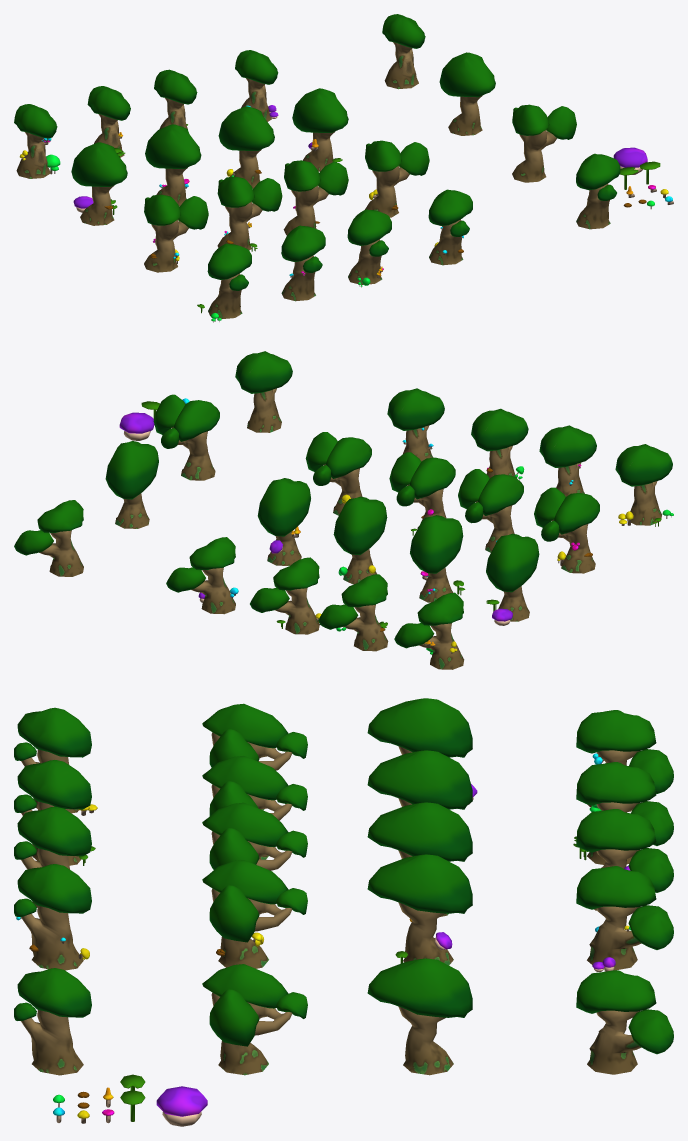
File: DecorationTreeMushroom.glb
The picture shows the model from 3 angles, top to bottom: view 1: azimuth 30°, elevation 25°; view 2: azimuth 150°, elevation 25°; view 3: azimuth 270°, elevation 25°; orthographic projection. The views are drawn at different scales.
Parts seen in each view (by area): view 1: LeafSet.031, LeafSet.029, LeafSet.030, LeafSet.032, LeafIndividual.001, TreeIndividual.003, TreeSet.011, LeafIndividual.008, LeafSet.016, LeafSet.009, LeafSet.002, LeafSet.023 (+34 smaller); view 2: LeafSet.031, LeafIndividual.001, LeafSet.029, LeafSet.032, LeafSet.030, LeafIndividual.008, LeafSet.002, LeafSet.009, LeafSet.016, LeafSet.023, LeafSet.013, LeafIndividual.007 (+39 smaller); view 3: LeafIndividual.001, LeafSet.029, LeafSet.030, LeafSet.031, LeafSet.032, LeafSet.015, LeafIndividual.004, LeafSet.008, LeafSet.001, LeafSet.022, LeafSet.002, LeafIndividual.008 (+28 smaller).
Boxes of the visible parts, x1,y1,x2,y2 form: LeafSet.031: (145,124,201,168); LeafSet.029: (292,88,348,132); LeafSet.030: (218,106,274,150); LeafSet.032: (71,142,127,186); LeafIndividual.001: (439,52,495,97); TreeIndividual.003: (512,130,556,182); TreeSet.011: (144,219,188,272); LeafIndividual.008: (576,153,620,190); LeafSet.016: (281,225,325,261); LeafSet.009: (347,209,391,245); LeafSet.002: (428,189,472,225); LeafSet.023: (207,243,251,279); LeafSet.031: (410,515,463,573); LeafIndividual.001: (105,441,158,499); LeafSet.029: (257,478,310,536); LeafSet.032: (486,533,539,592); LeafSet.030: (333,496,387,555); LeafIndividual.008: (235,351,292,393); LeafSet.002: (387,388,444,430); LeafSet.009: (471,408,528,451); LeafSet.016: (539,425,596,467); LeafSet.023: (615,444,672,486); LeafSet.013: (409,457,455,499); LeafIndividual.007: (173,400,219,441); LeafIndividual.001: (367,958,472,1017); LeafSet.029: (367,854,472,913); LeafSet.030: (367,802,472,861); LeafSet.031: (367,750,472,809); LeafSet.032: (367,698,472,757); LeafSet.015: (576,809,656,852); LeafIndividual.004: (576,970,656,1013); LeafSet.008: (576,866,656,909); LeafSet.001: (576,710,656,753); LeafSet.022: (576,762,656,805); LeafSet.002: (17,864,91,913); LeafIndividual.008: (17,968,91,1017).
Bounding box in the file's own units: 65.89 × 10.06 × 53.59.
1 material, 1 textured.
